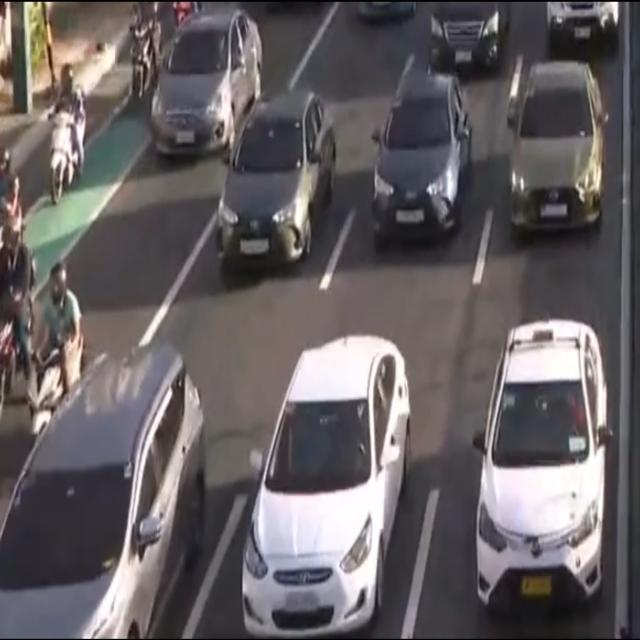Motorcycle: (21, 260, 83, 442), (46, 58, 88, 205), (0, 213, 29, 410), (126, 0, 159, 104)
SUV: (0, 346, 210, 640)
Sedan: (238, 327, 412, 640), (474, 317, 613, 610), (213, 92, 338, 272), (149, 4, 264, 164), (369, 74, 470, 251), (504, 62, 603, 234)
